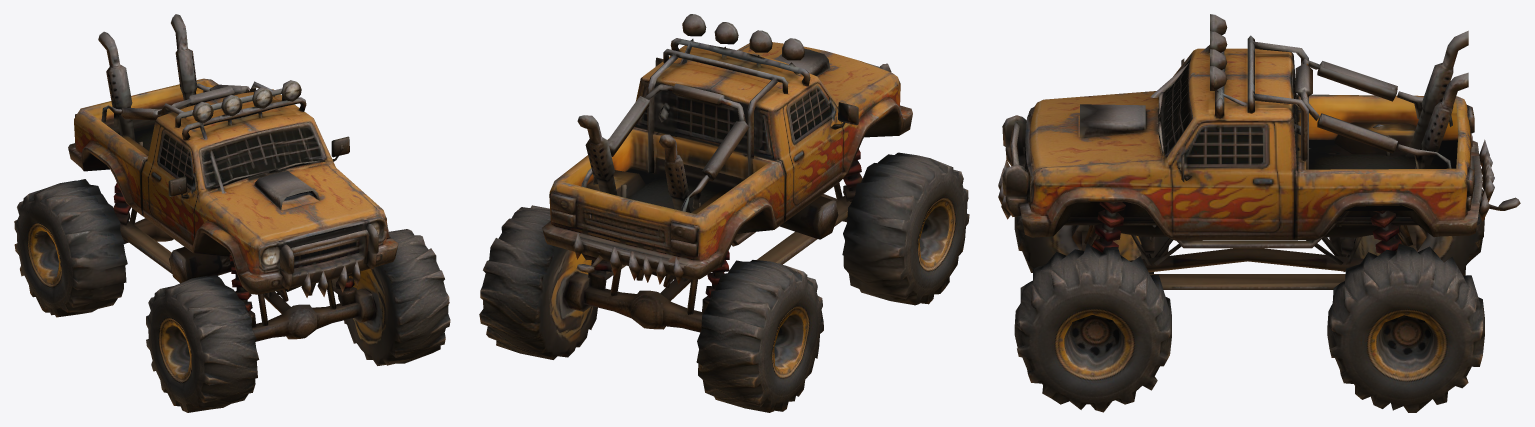
File: monster+truck+3d+model.glb
3 views of the same model, side by side, from view 1: azimuth 30°, elevation 25°; view 2: azimuth 150°, elevation 25°; view 3: azimuth 270°, elevation 25° (orthographic). The views are drawn at different scales.
Visible parts, largest first — view 1: tripo_node_12064c8f-da81-484c-8471-5206857a71fd; view 2: tripo_node_12064c8f-da81-484c-8471-5206857a71fd; view 3: tripo_node_12064c8f-da81-484c-8471-5206857a71fd.
Boxes of the visible parts, left/top/right/bottom form: tripo_node_12064c8f-da81-484c-8471-5206857a71fd: left=14, top=14, right=450, bottom=412; tripo_node_12064c8f-da81-484c-8471-5206857a71fd: left=479, top=14, right=969, bottom=412; tripo_node_12064c8f-da81-484c-8471-5206857a71fd: left=998, top=14, right=1520, bottom=412.
Bounding box in the file's own units: 0.6621 × 0.6387 × 0.998.
1 material, 1 textured.
